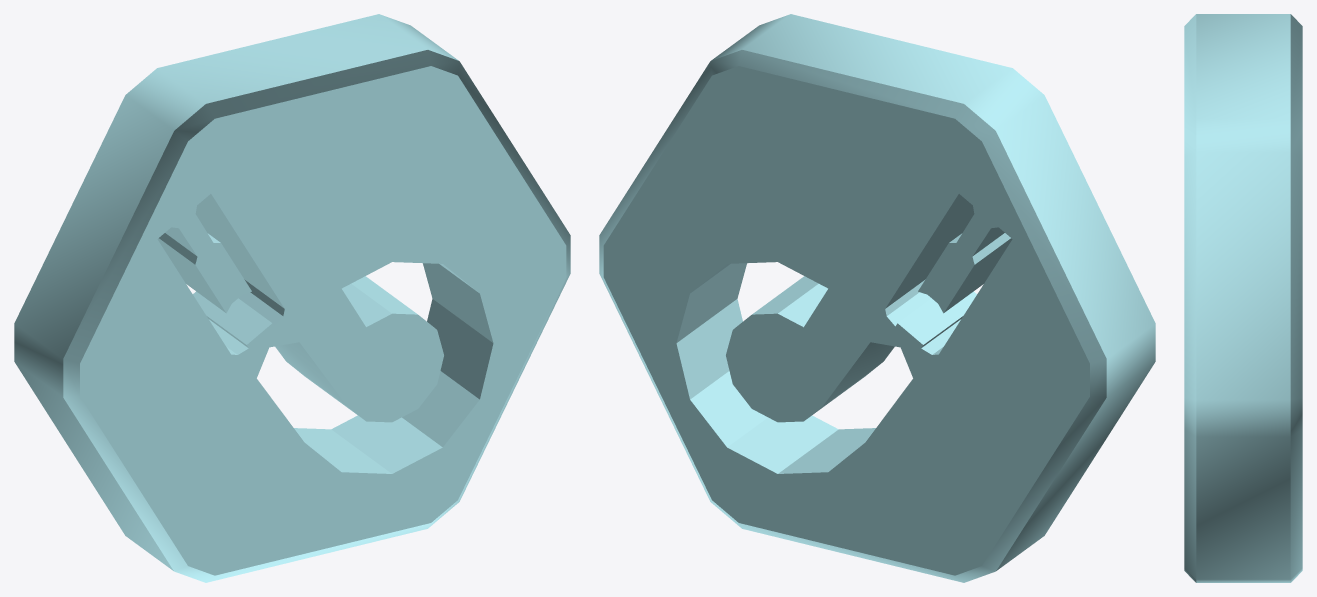
Rendered from icon1.ico.obj.
3 renders of one model, left to right at view 1: azimuth 30°, elevation 25°; view 2: azimuth 150°, elevation 25°; view 3: azimuth 270°, elevation 25°, orthographic. The views are drawn at different scales.
Size of the model in its own units: 4.8 by 4.33 by 1.
1 material, 1 textured.
